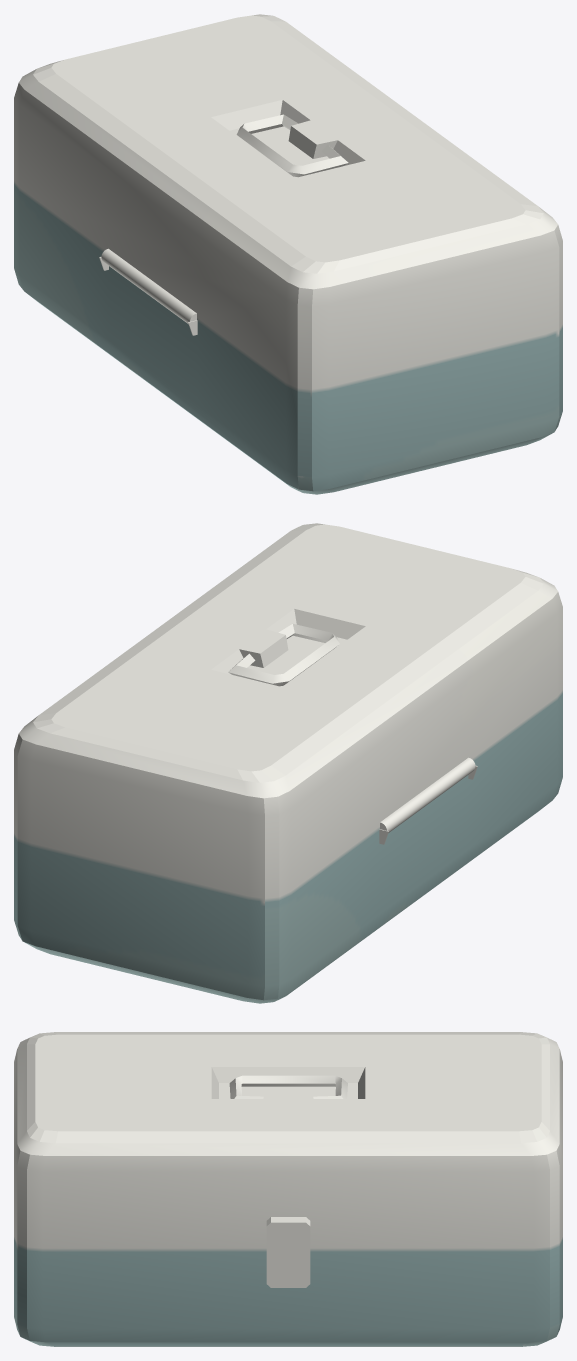
The model's file is MedicalBox.FBX.
The picture shows the model from 3 angles, top to bottom: view 1: azimuth 30°, elevation 25°; view 2: azimuth 150°, elevation 25°; view 3: azimuth 270°, elevation 25°; orthographic projection. The views are drawn at different scales.
Parts seen in each view (by area): view 1: MedicalBox013; view 2: MedicalBox013; view 3: MedicalBox013.
Part boxes in pixels (x1=…): MedicalBox013: x1=14, y1=14, x2=562, y2=494; MedicalBox013: x1=14, y1=523, x2=562, y2=1003; MedicalBox013: x1=14, y1=1032, x2=562, y2=1346.
Bounding box in the file's own units: 21.58 × 16.14 × 38.
